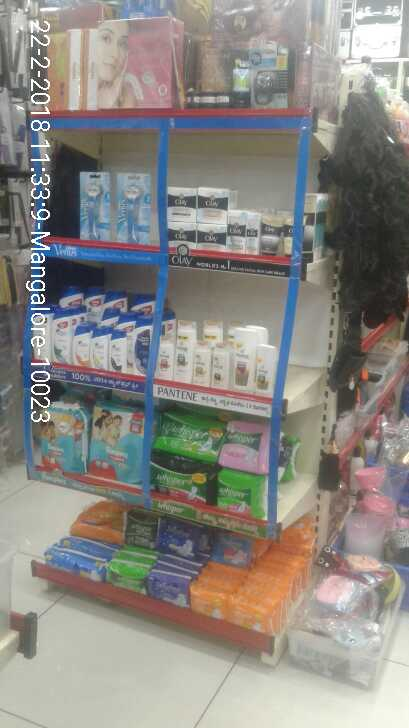venus: (117, 174, 150, 241), (80, 169, 110, 239)
